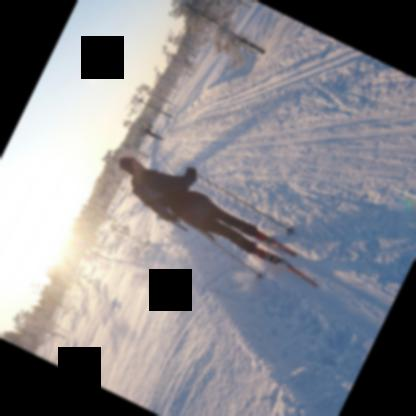backpack: (129, 174, 188, 231)
